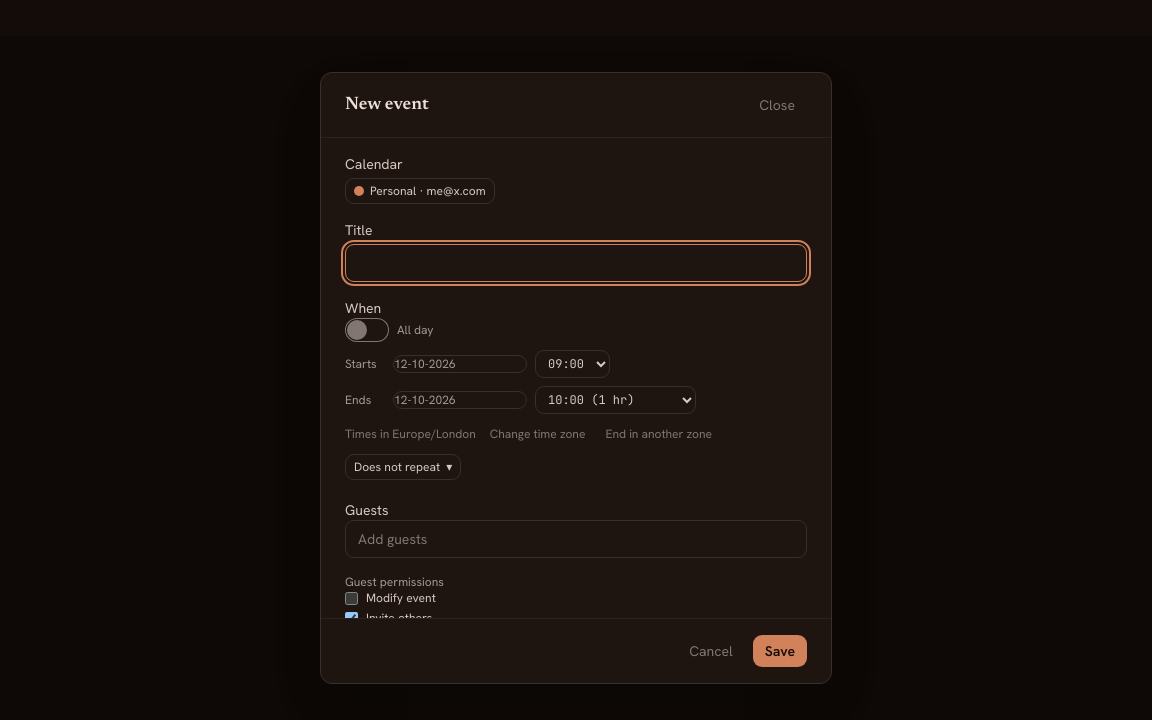
Test case: NewEventEditor › a failed create keeps the draft open
The image size is (1152, 720).
Type "Dentist" into the field labelled "Title" at (576, 263), box [345,244,807,282]
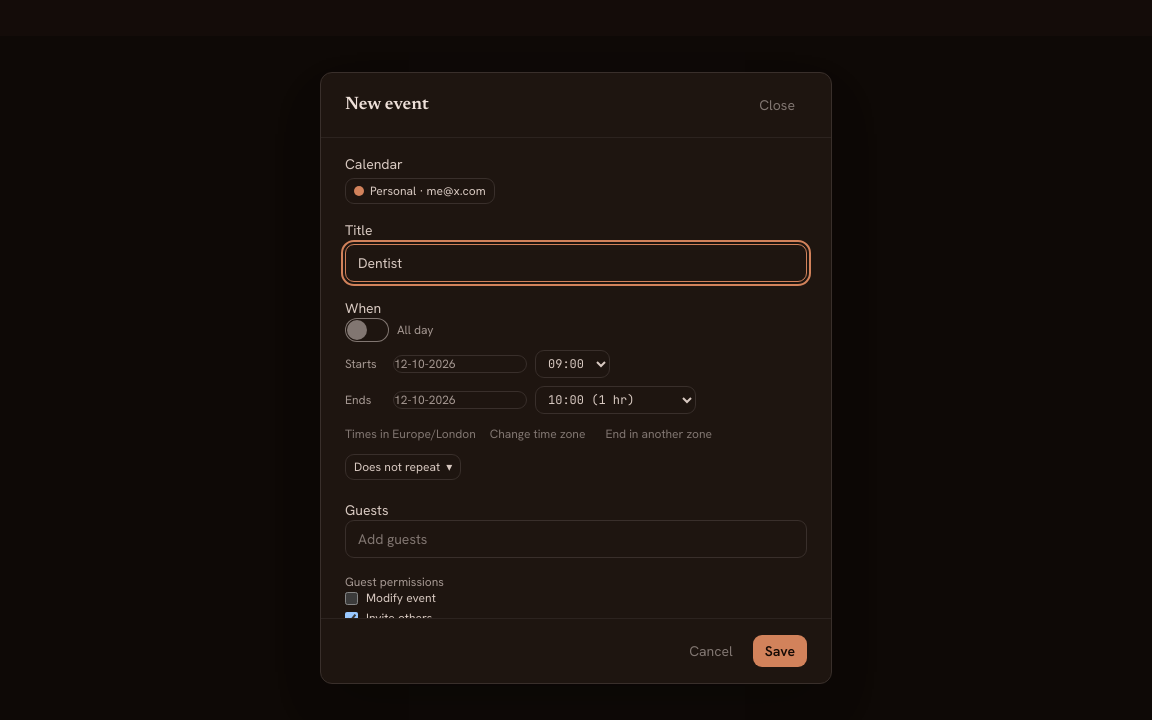
Click the button "Save" at (780, 651), box [753,635,807,667]
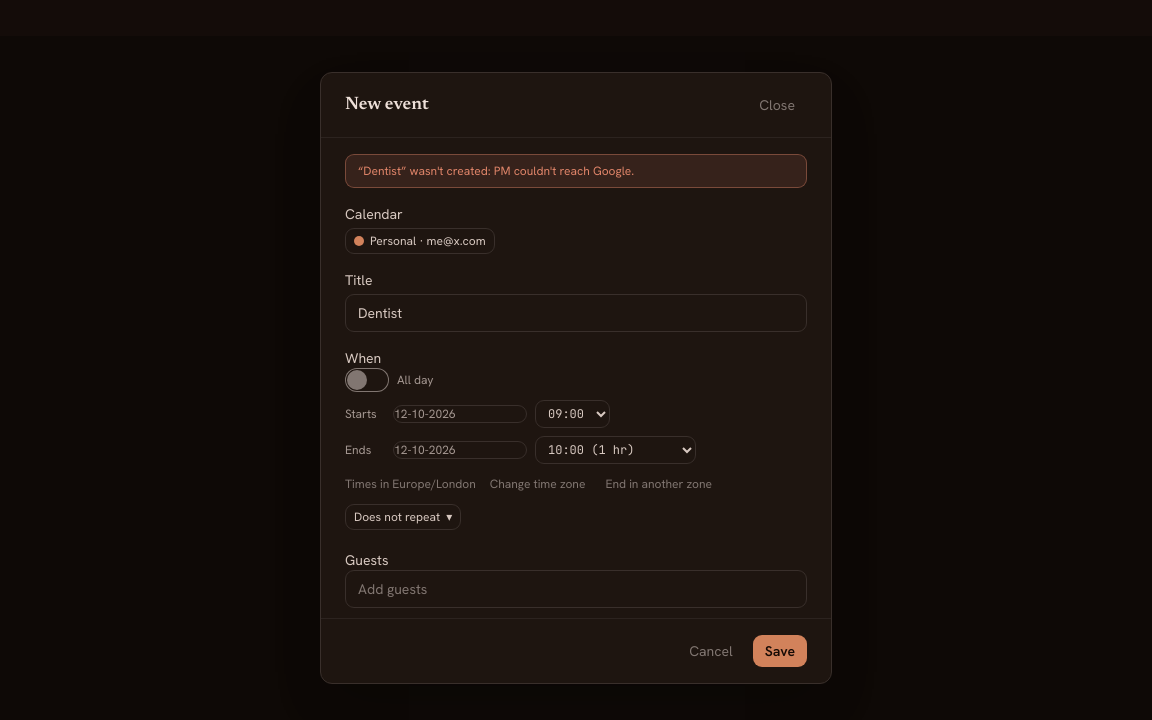
Expected: the field labelled "Title" is enabled, [345,294,807,332]
Now the text "“Dentist” wasn't created: PM couldn't reach Google." is shown, box [345,154,807,188]
